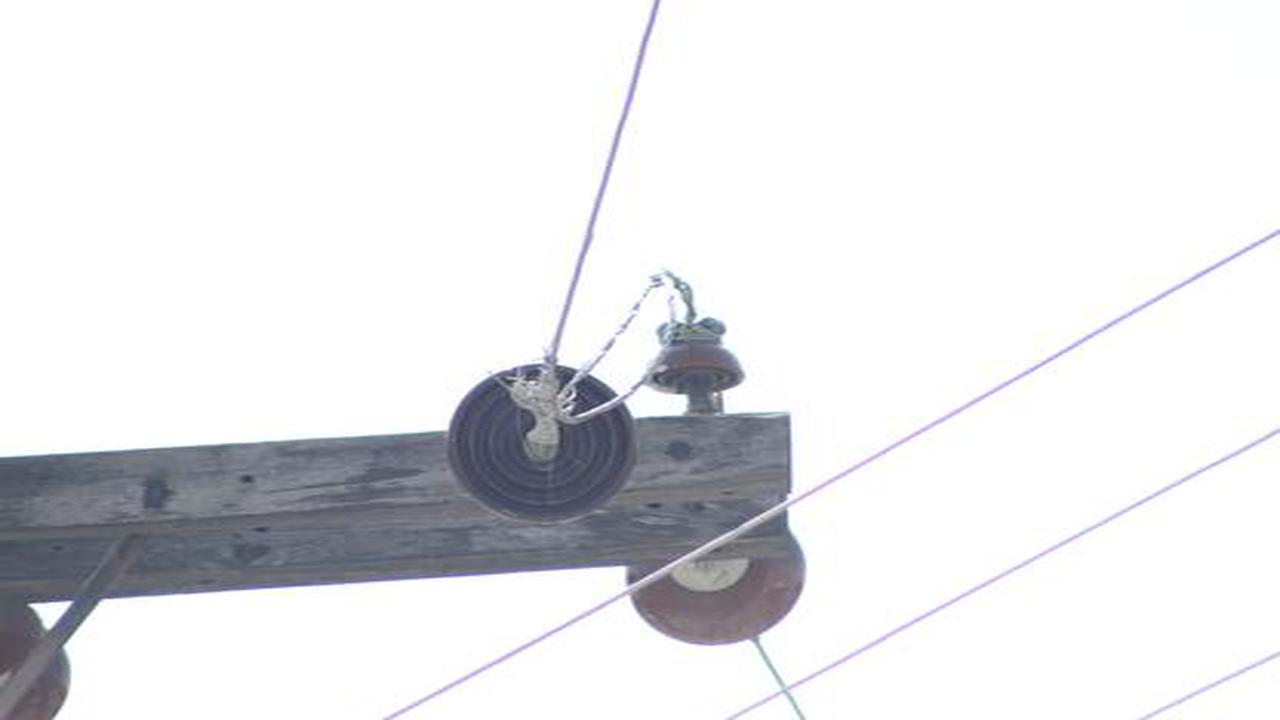insulator_disc: (446, 360, 641, 522), (634, 557, 804, 645)
insulator_pin: (650, 313, 751, 405)
